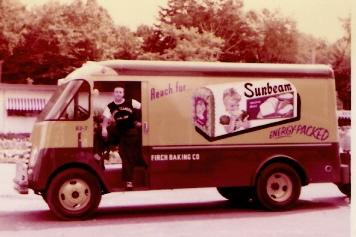truck: (13, 59, 350, 221)
